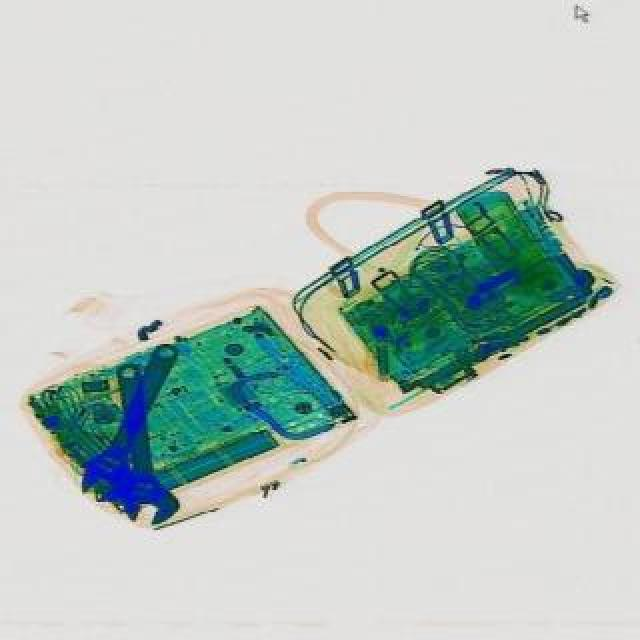scissors: (66, 332, 196, 512), (98, 358, 180, 528)
